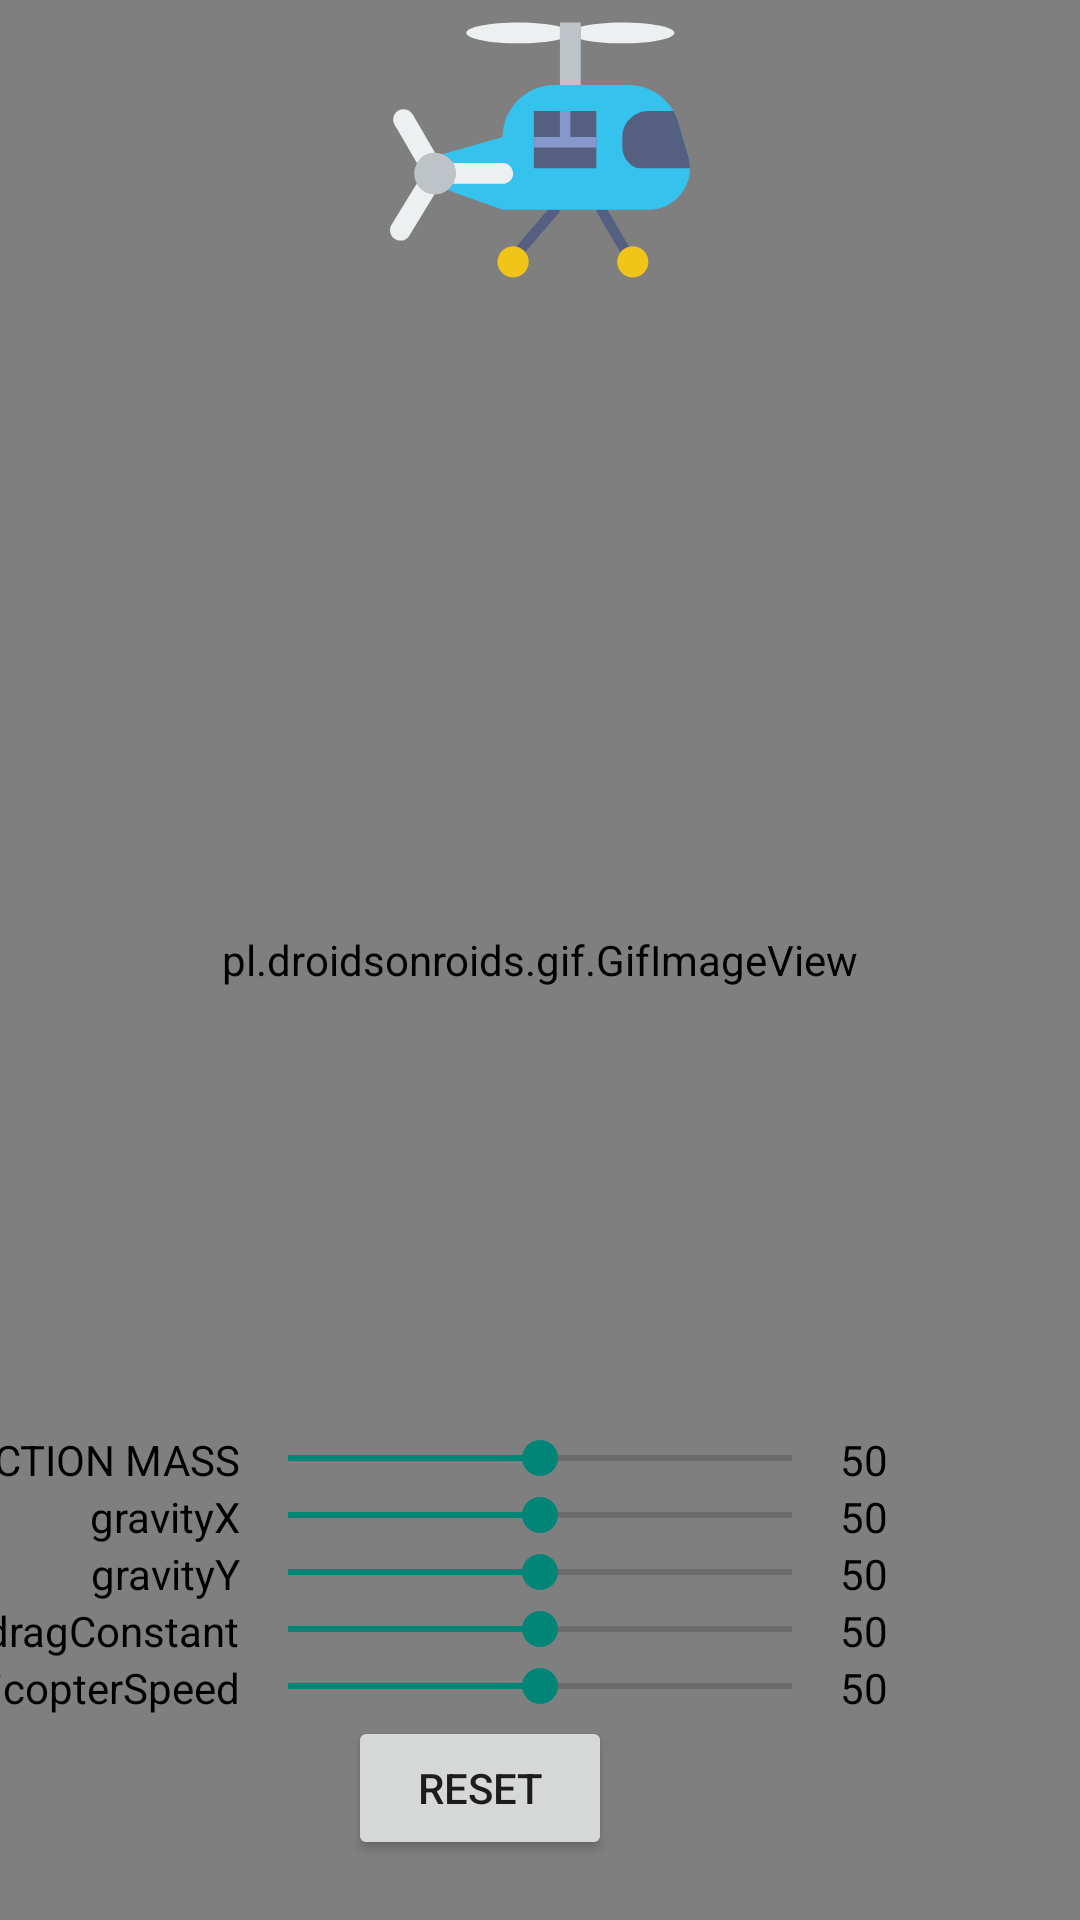

Screen size 1080px×1920px. Icon name, then its center in pixels as (x=x, y=y):
helicopter: (x=540, y=150)
